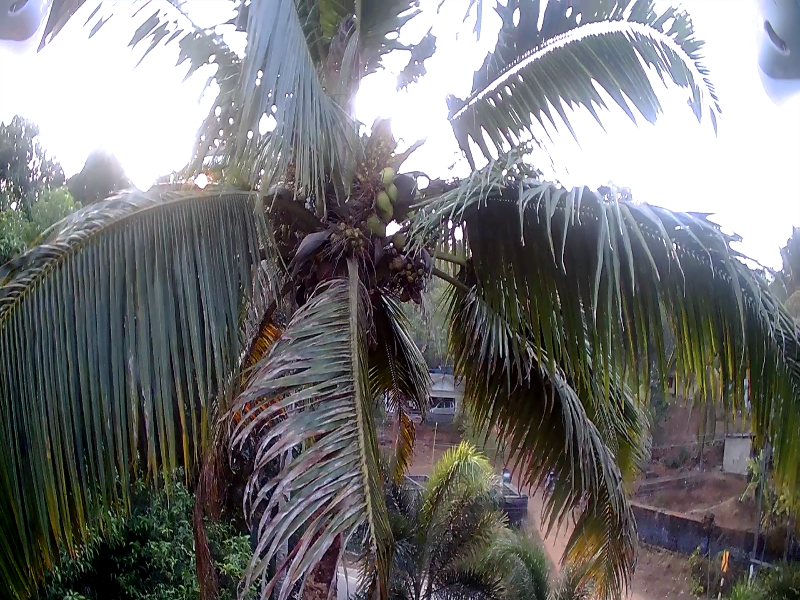coconut: (357, 214, 379, 239), (372, 191, 390, 215), (376, 167, 395, 187)
